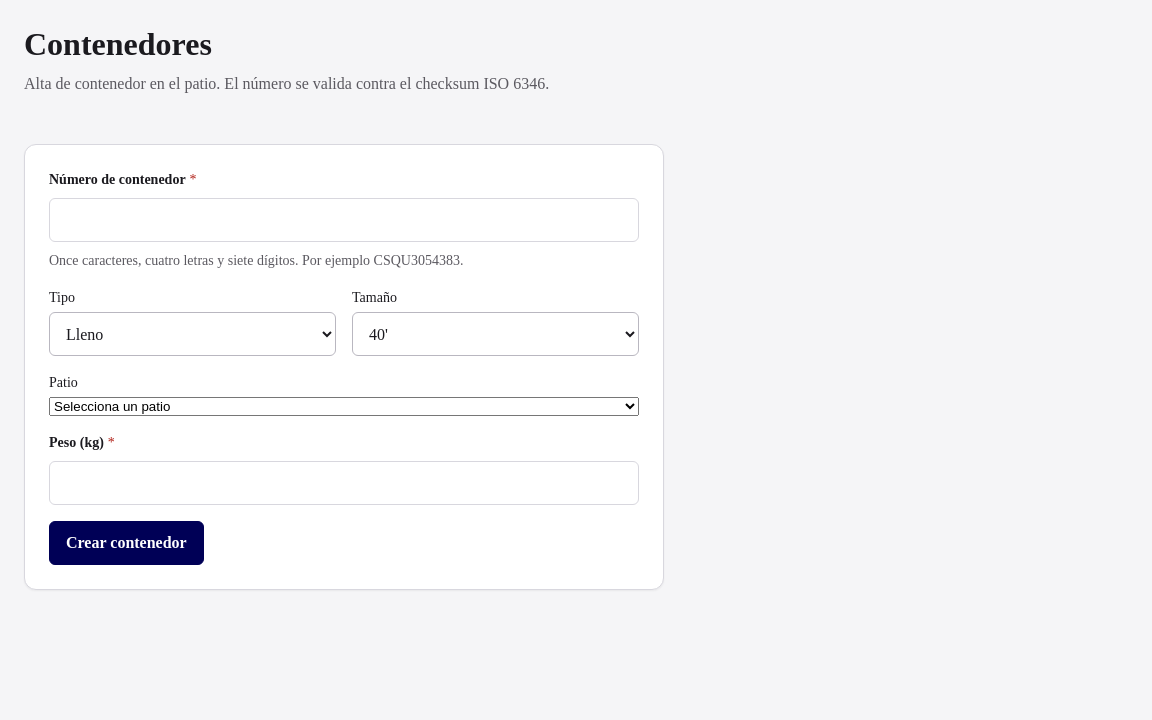
Test: ContenedoresPage › creates a contenedor with the form values
The image size is (1152, 720).
Type "CSQU3054383" into the field labelled "Número de contenedor" at (344, 220), box [49,198,639,242]
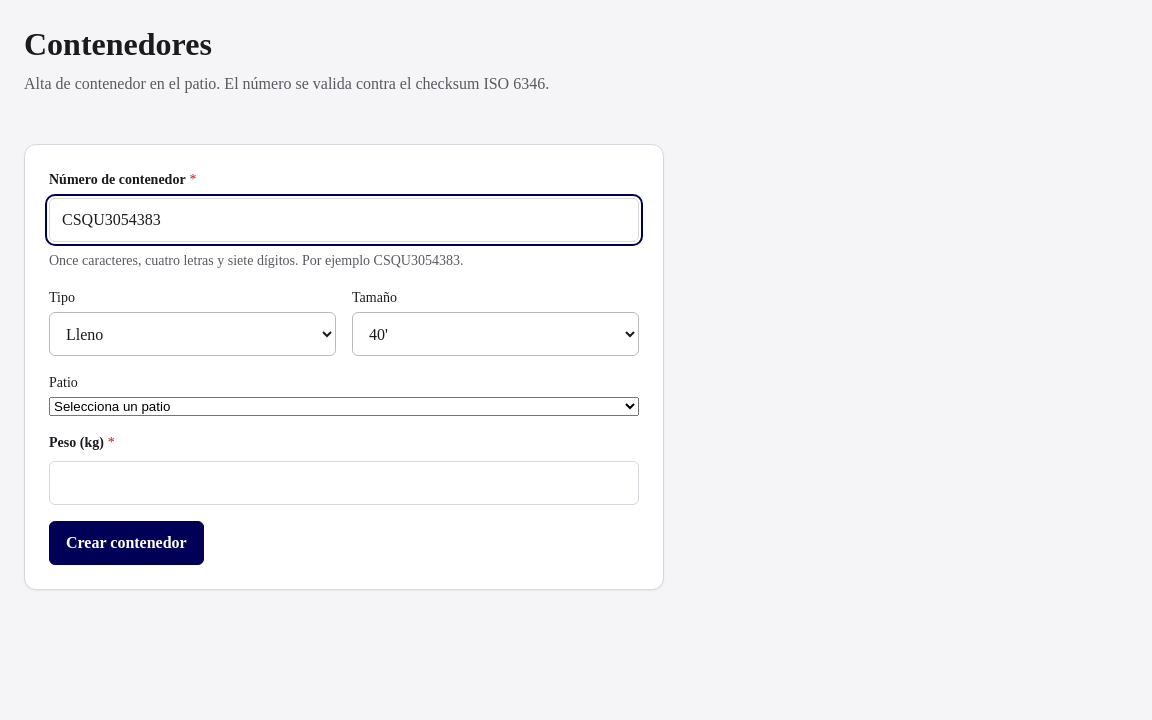
Select "Patio Norte (PN)" in the dropdown labelled "Patio" at (344, 406), box [49,397,639,416]
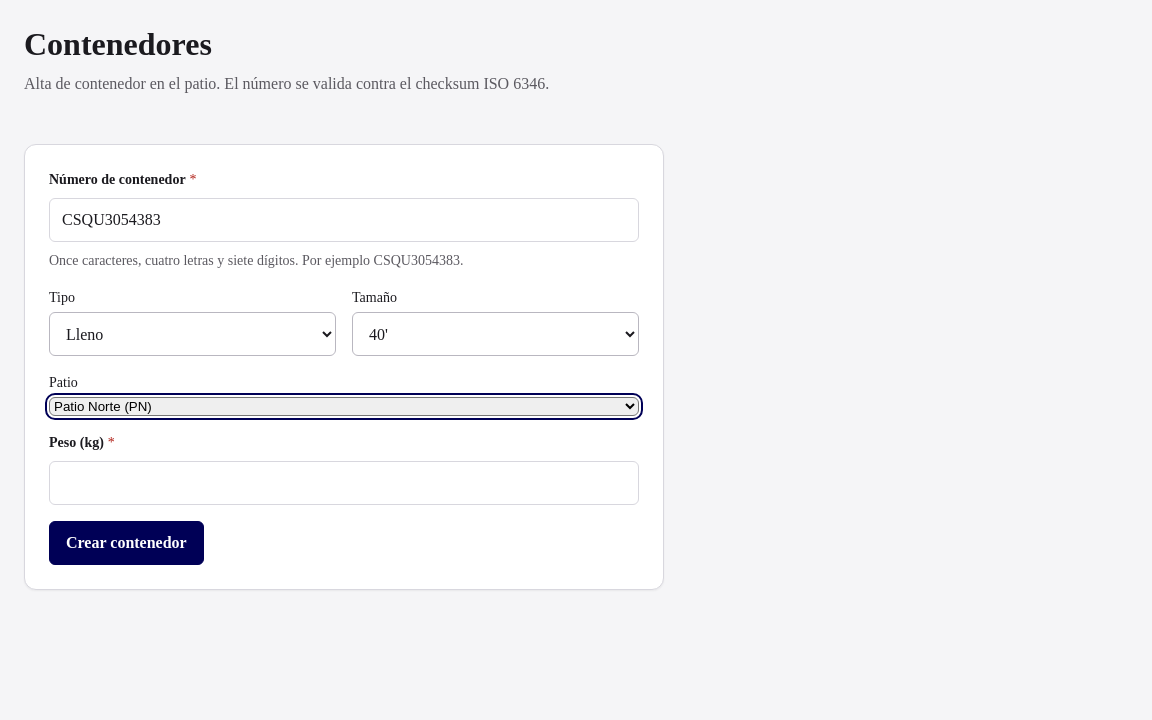
Type "18000" into the number field labelled "Peso (kg)" at (344, 483), box [49,461,639,505]
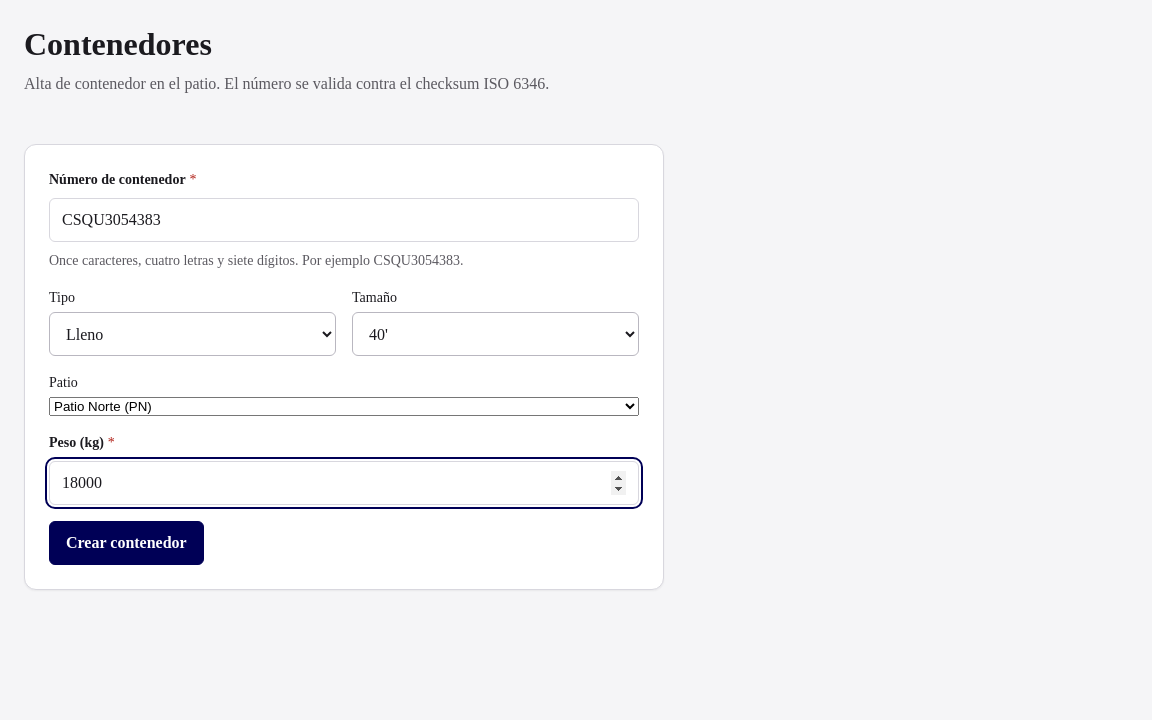
Click the button "Crear contenedor" at (126, 543), box [49,521,204,565]
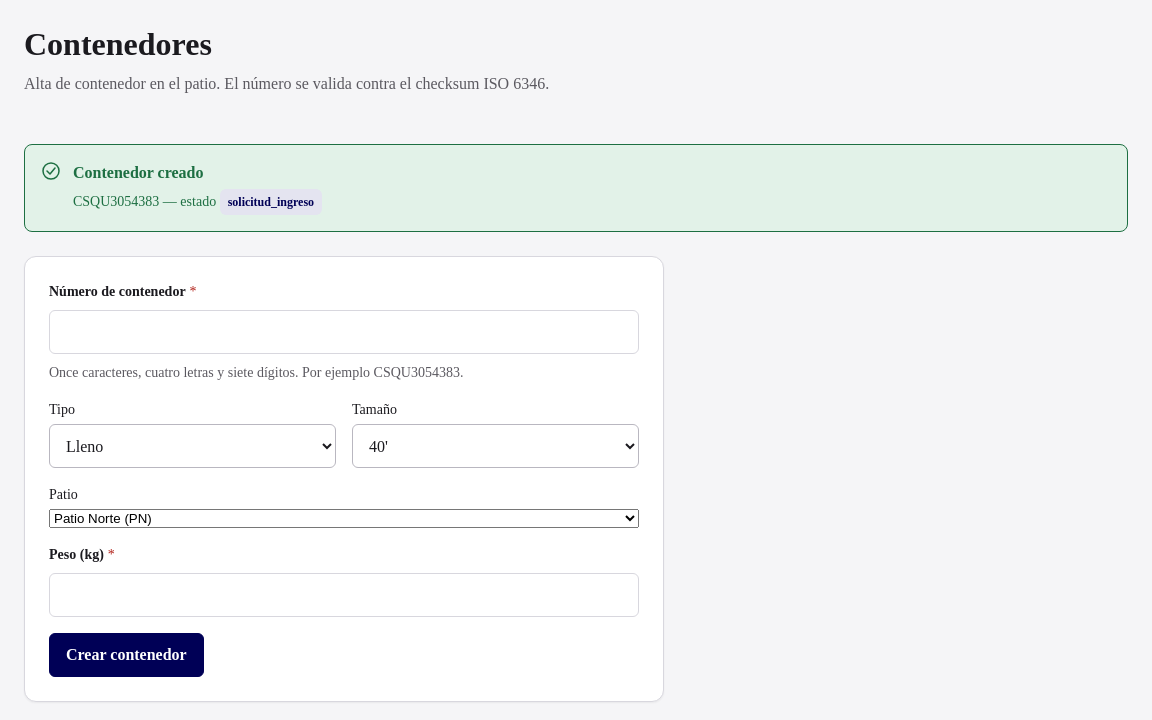
Result: the message shows "CSQU3054383" at [73,194,159,209]
Result: the message shows "solicitud_ingreso" at [228,195,314,209]
